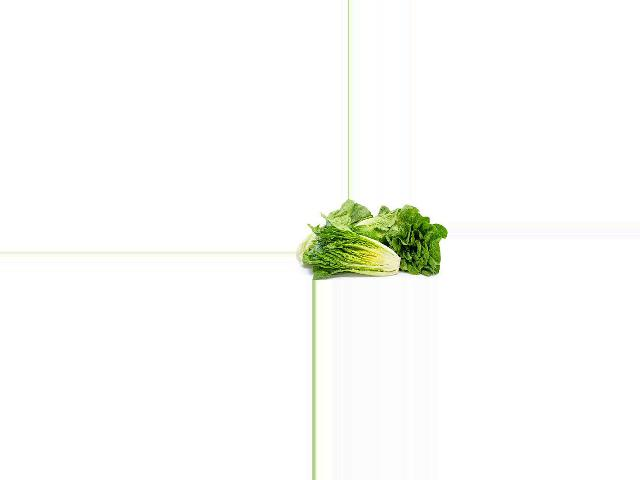lettuce: (357, 205, 444, 281)
